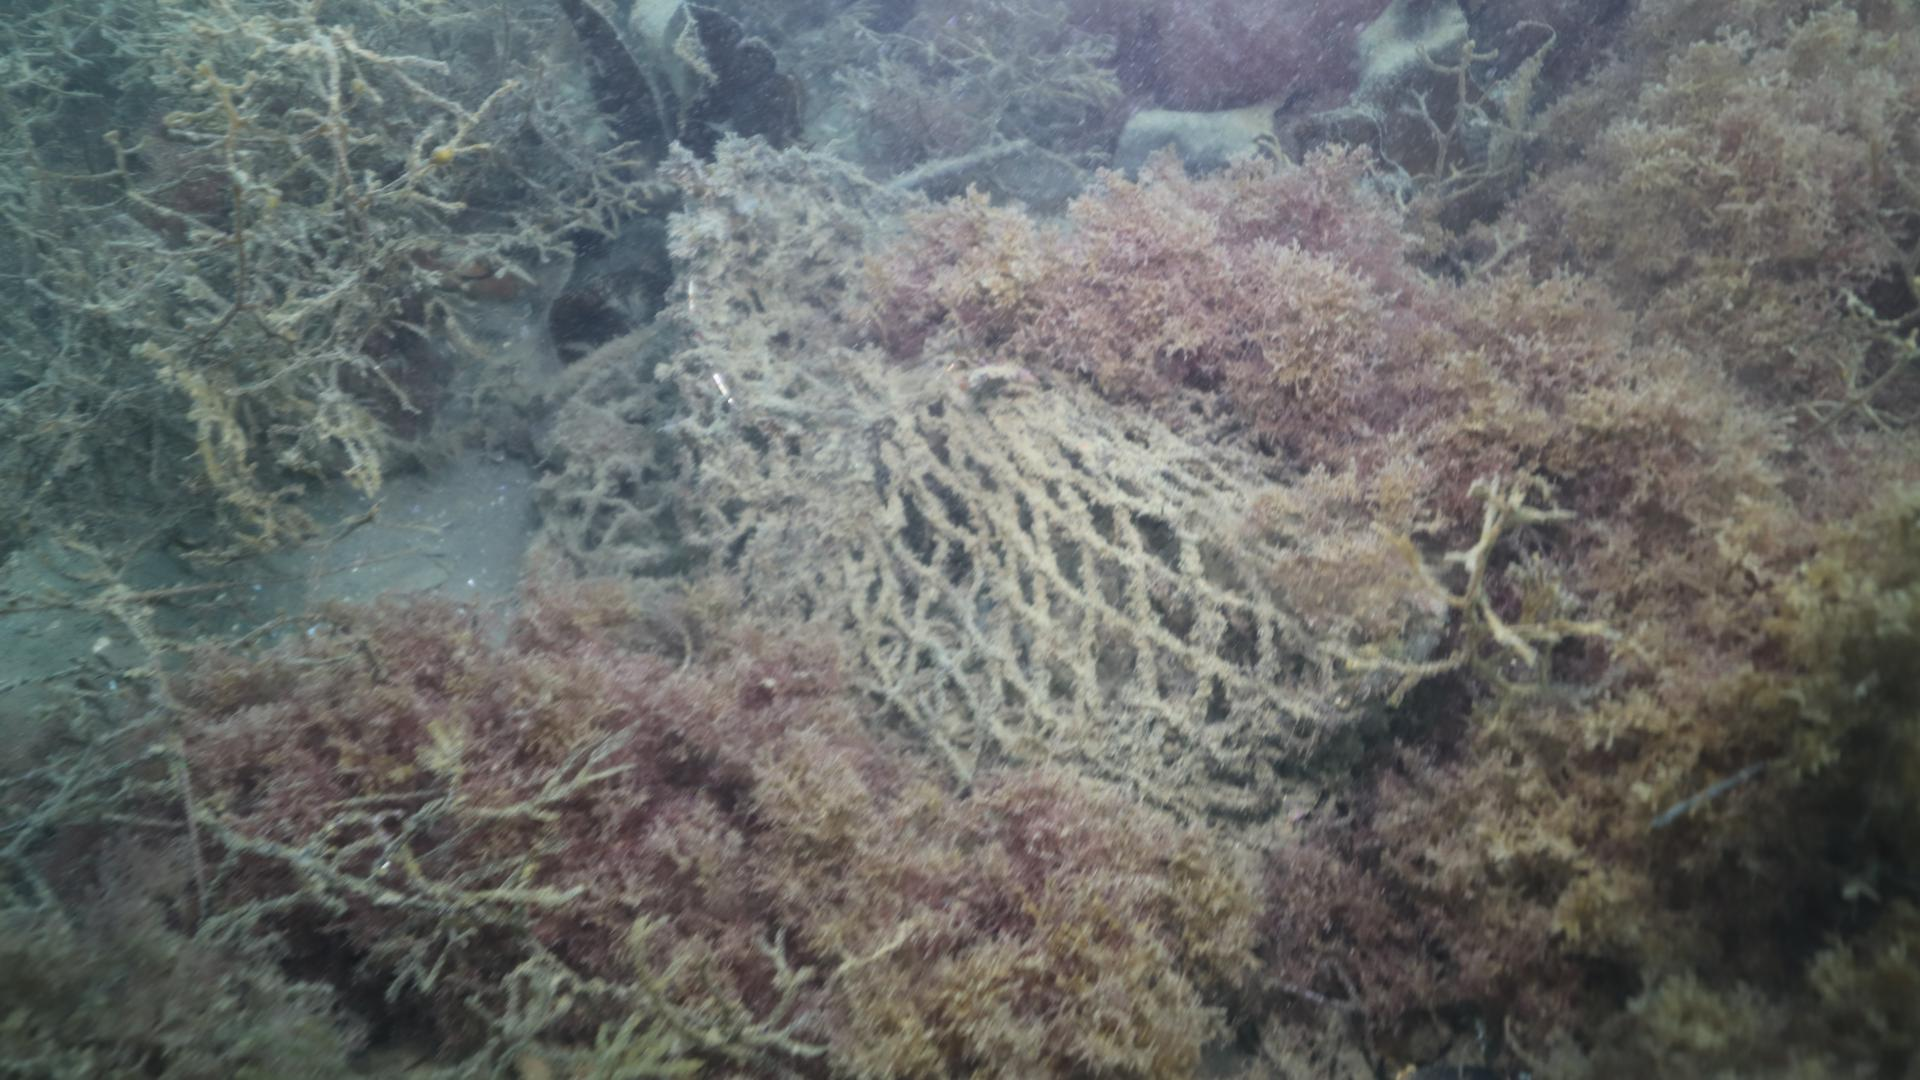fish net: (530, 145, 1476, 795)
